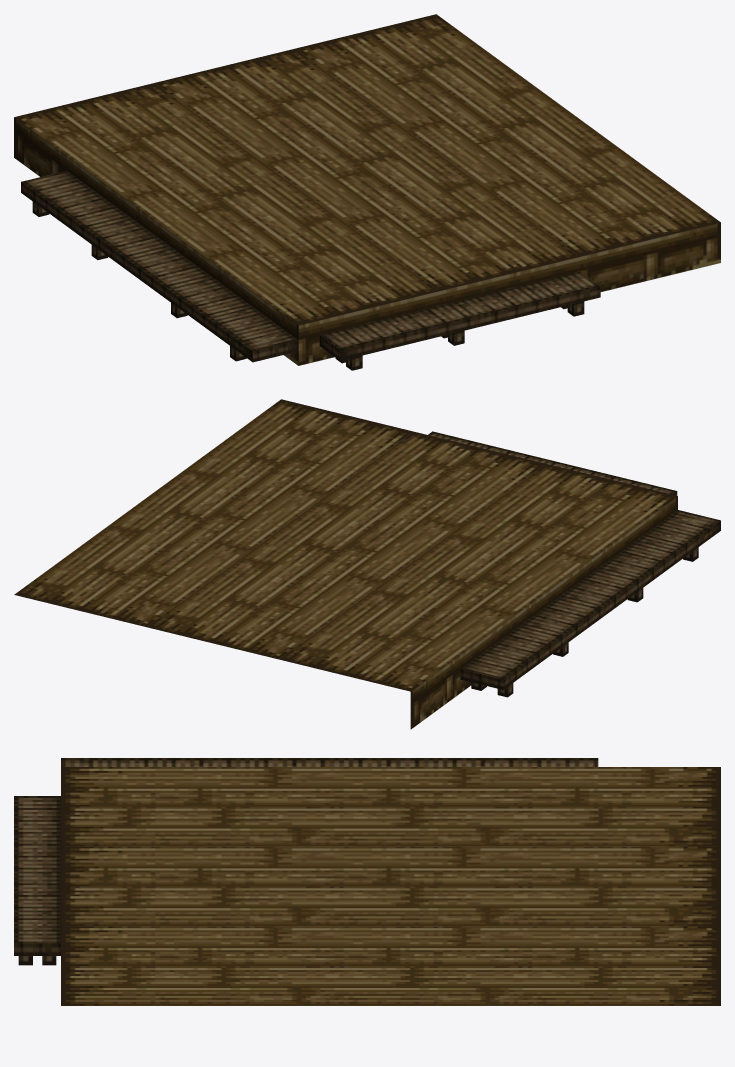
File: EnvBdgMD_Desert_A_Indoor_House_D_FloorWood.FBX
3 renders of one model, top to bottom at view 1: azimuth 30°, elevation 25°; view 2: azimuth 150°, elevation 25°; view 3: azimuth 270°, elevation 25°, orthographic. The views are drawn at different scales.
Visible parts, largest first — view 1: EnvBdgMD_Desert_A_Indoor_House_D_FloorWood; view 2: EnvBdgMD_Desert_A_Indoor_House_D_FloorWood; view 3: EnvBdgMD_Desert_A_Indoor_House_D_FloorWood.
Part boxes in pixels (x1,y1,x2,y2): EnvBdgMD_Desert_A_Indoor_House_D_FloorWood: [14, 14, 720, 370]; EnvBdgMD_Desert_A_Indoor_House_D_FloorWood: [14, 399, 720, 729]; EnvBdgMD_Desert_A_Indoor_House_D_FloorWood: [14, 758, 720, 1005].
Size of the model in its own units: 665 by 55 by 750.
